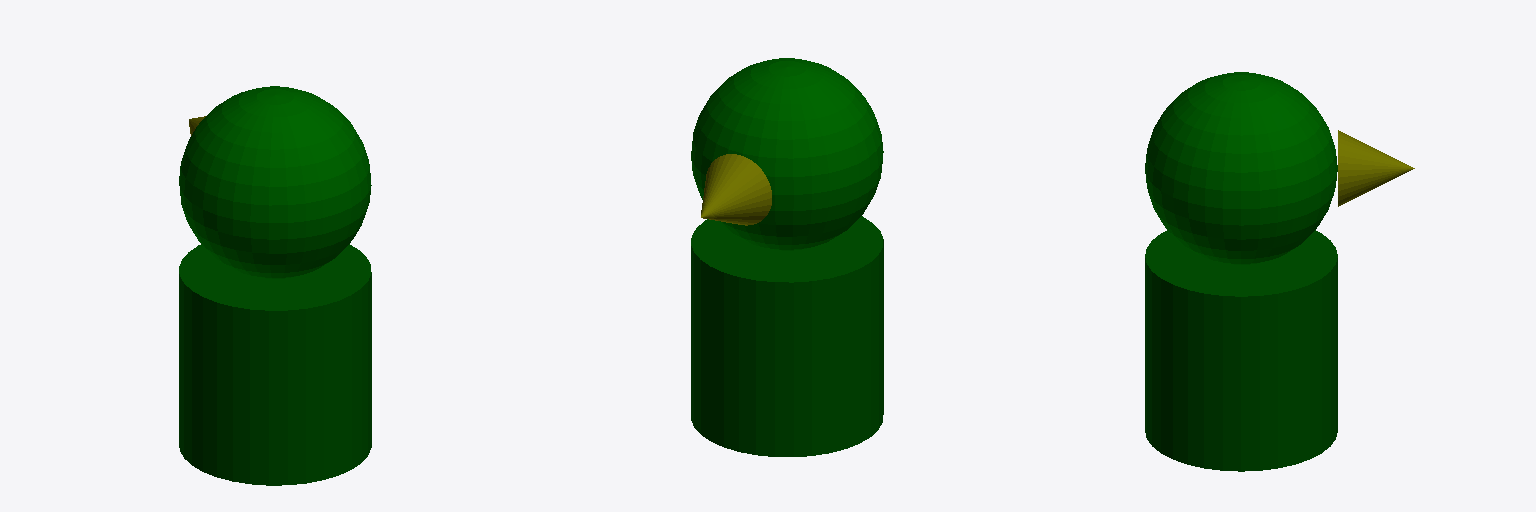
File: player.obj
3 renders of one model, left to right at view 1: azimuth 30°, elevation 25°; view 2: azimuth 150°, elevation 25°; view 3: azimuth 270°, elevation 25°, orthographic.
Visible parts, largest first — view 1: Cylinder, Sphere; view 2: Cylinder, Sphere, Cone; view 3: Cylinder, Sphere, Cone.
Part boxes in pixels (left/top/right/bottom): Cylinder: left=179, top=244, right=371, bottom=485; Sphere: left=179, top=86, right=371, bottom=278; Cylinder: left=691, top=216, right=883, bottom=456; Sphere: left=691, top=58, right=883, bottom=250; Cone: left=701, top=154, right=771, bottom=225; Cylinder: left=1145, top=230, right=1337, bottom=471; Sphere: left=1145, top=72, right=1337, bottom=264; Cone: left=1338, top=130, right=1414, bottom=206.
Bounding box in the file's own units: 1 × 2 × 1.4.